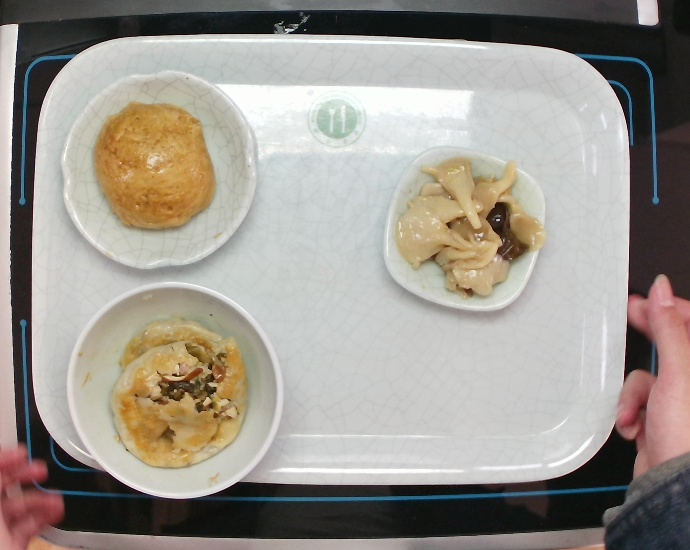JYsf-Ao_Yuan_Wan: (57, 65, 266, 275)
JYsf-Fan_Wan: (63, 272, 295, 505)
JYsf-Si_Fang_Die: (379, 138, 551, 316)
